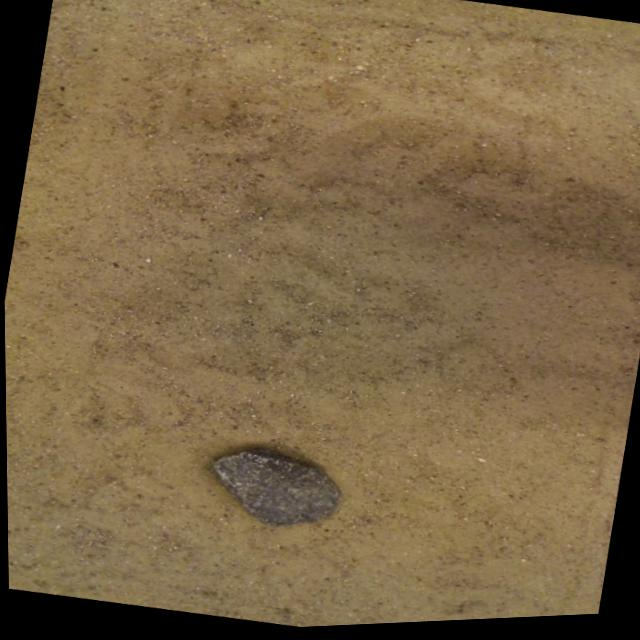rock: (207, 451, 336, 528)
